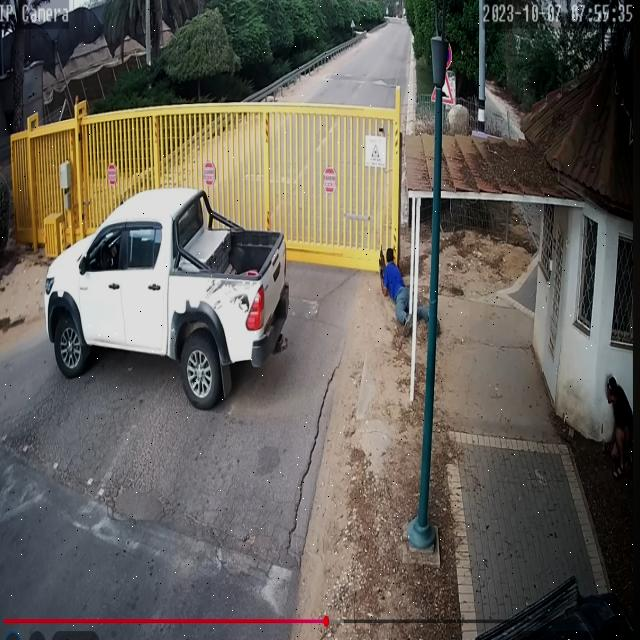fallen: (381, 248, 413, 334), (416, 307, 429, 321)
